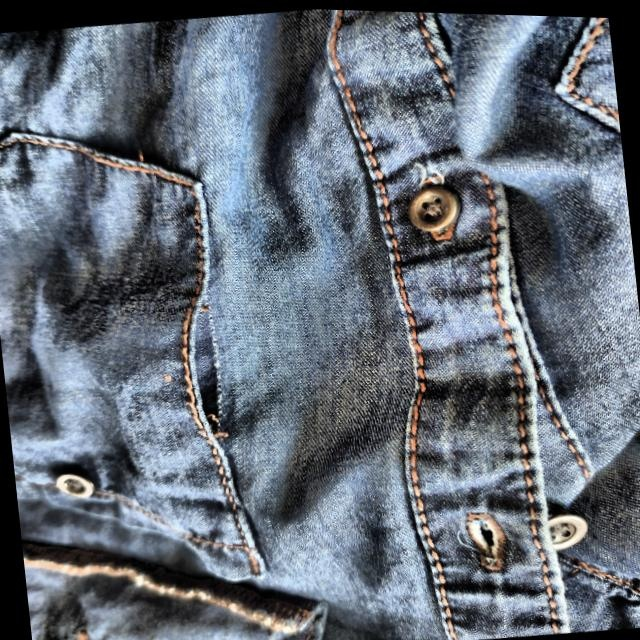seam: (146, 283, 260, 455)
